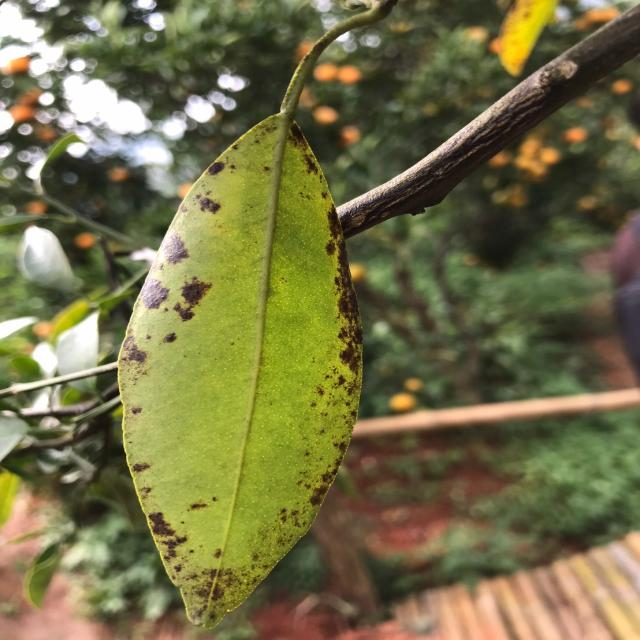melanose: (76, 111, 387, 626)
